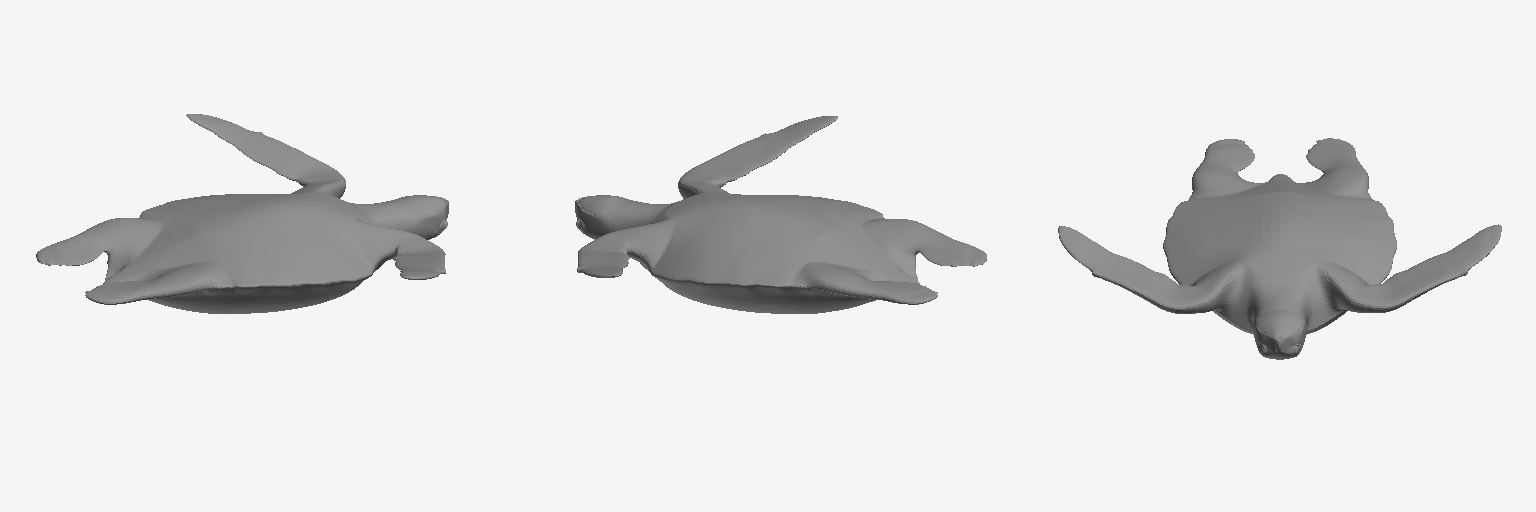
Rendered from Turtle.obj.
The picture shows the model from 3 angles: view 1: azimuth 30°, elevation 25°; view 2: azimuth 150°, elevation 25°; view 3: azimuth 270°, elevation 25°; orthographic projection.
Parts seen in each view (by area): view 1: 10042_Sea_Turtle_V1; view 2: 10042_Sea_Turtle_V1; view 3: 10042_Sea_Turtle_V1.
Boxes of the visible parts, box(x1,y1,x2,y2) form: 10042_Sea_Turtle_V1: box(36, 114, 448, 313); 10042_Sea_Turtle_V1: box(575, 116, 986, 313); 10042_Sea_Turtle_V1: box(1058, 138, 1501, 359).
Size of the model in its own units: 11.14 by 2.84 by 11.11.